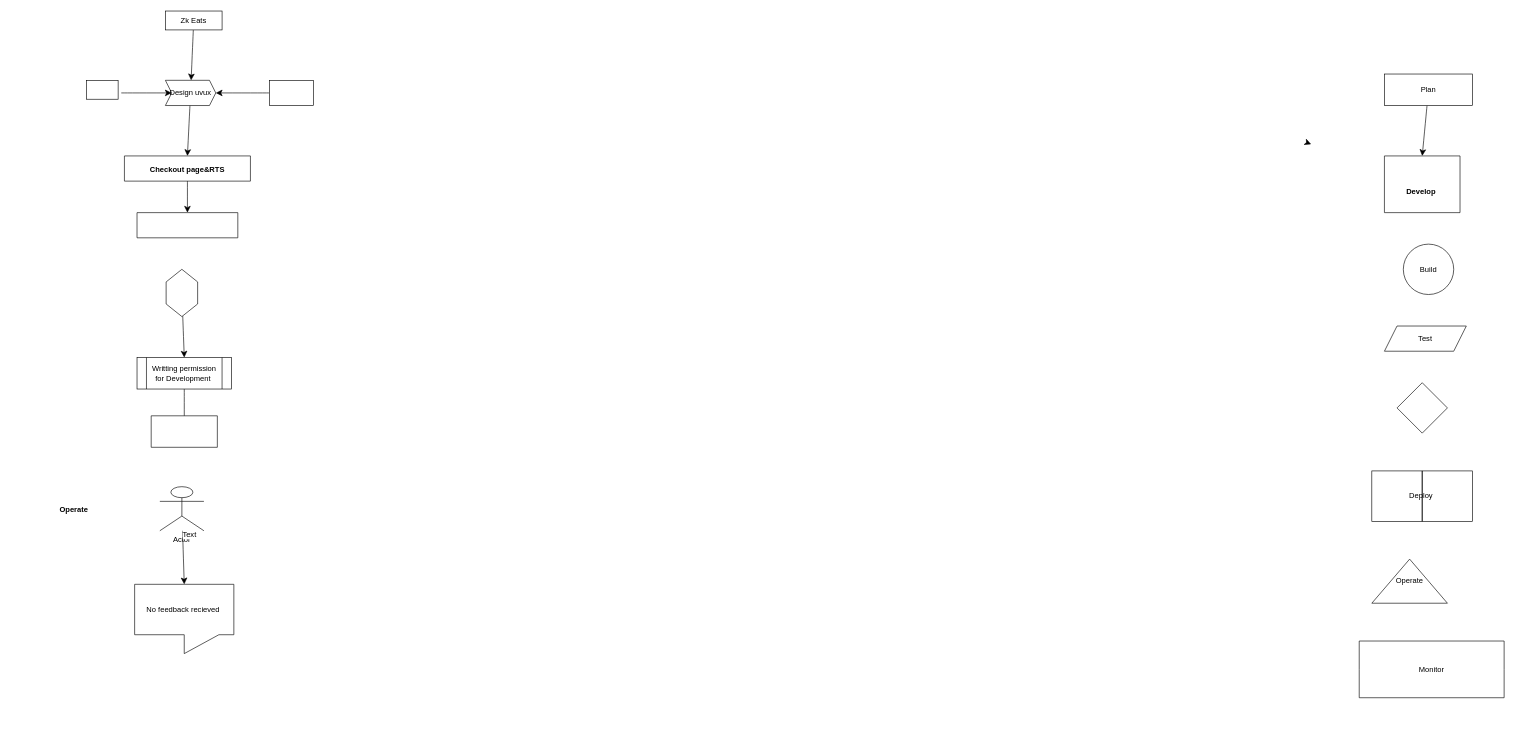
Image size: 1515x747. Some labels were removed from this diagram. Here are the shapes that lost their labels. From the top down, the centre of each, then its label:
the point at 102,89: Signing up /signing page
the point at 291,93: Listing of restuarant and their cuisines
the point at 187,225: Compiling inti apk
the point at 182,293: No bus found
the point at 1421,407: Release
the point at 184,431: Releasing into App store
